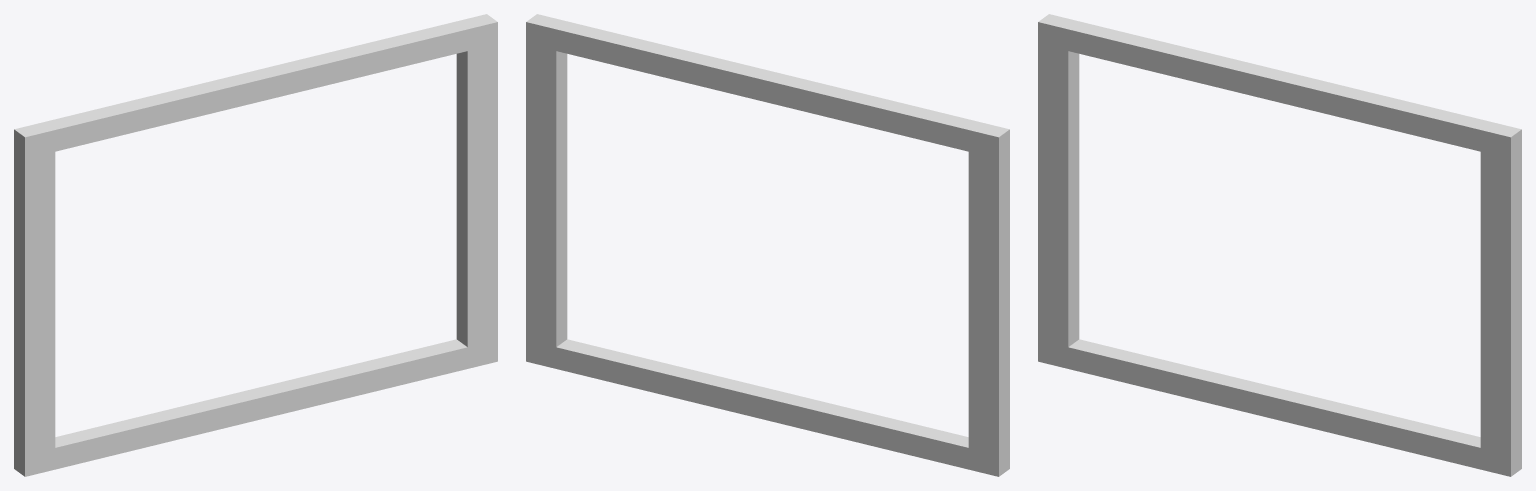
Rendered from Window 2.fbx.
The picture shows the model from 3 angles, left to right: view 1: azimuth 30°, elevation 25°; view 2: azimuth 150°, elevation 25°; view 3: azimuth 330°, elevation 25°; orthographic projection.
Parts seen in each view (by area): view 1: Window 2; view 2: Window 2; view 3: Window 2.
Part boxes in pixels (bbox=[...]): Window 2: bbox=[14, 14, 497, 476]; Window 2: bbox=[526, 14, 1009, 476]; Window 2: bbox=[1038, 14, 1521, 476].
Size of the model in its own units: 387 by 266 by 15.56.
